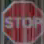Stop: (2, 1, 42, 42)
